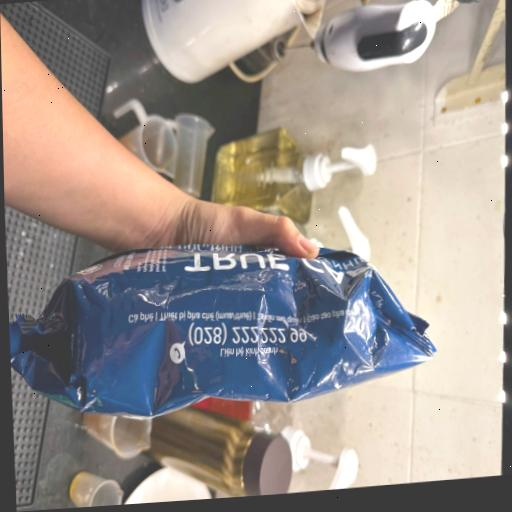cafe_hat: (8, 245, 434, 417)
